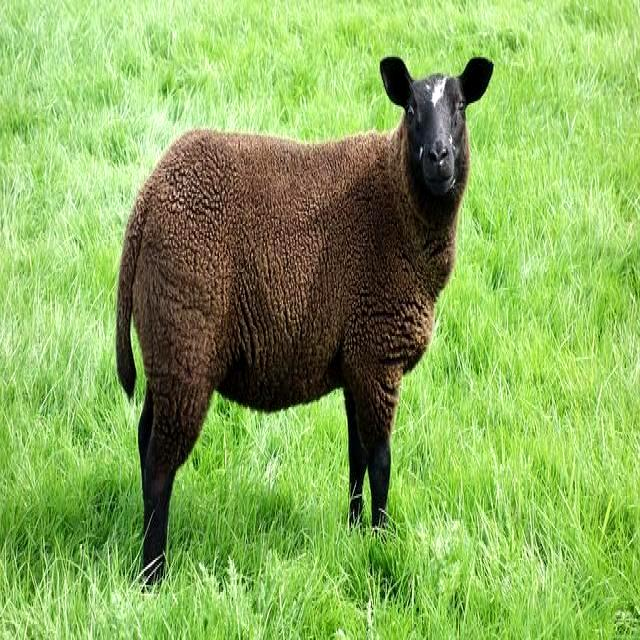sheep: (116, 52, 497, 586)
